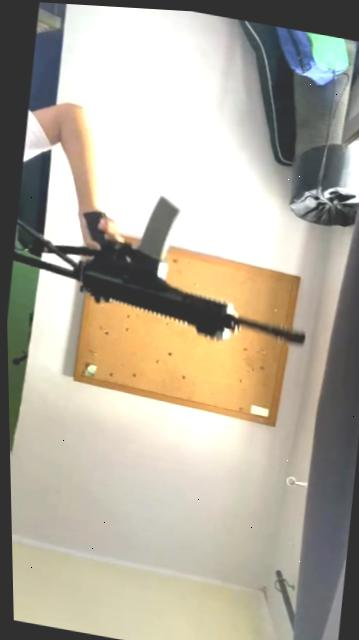rifle: (3, 179, 318, 362)
